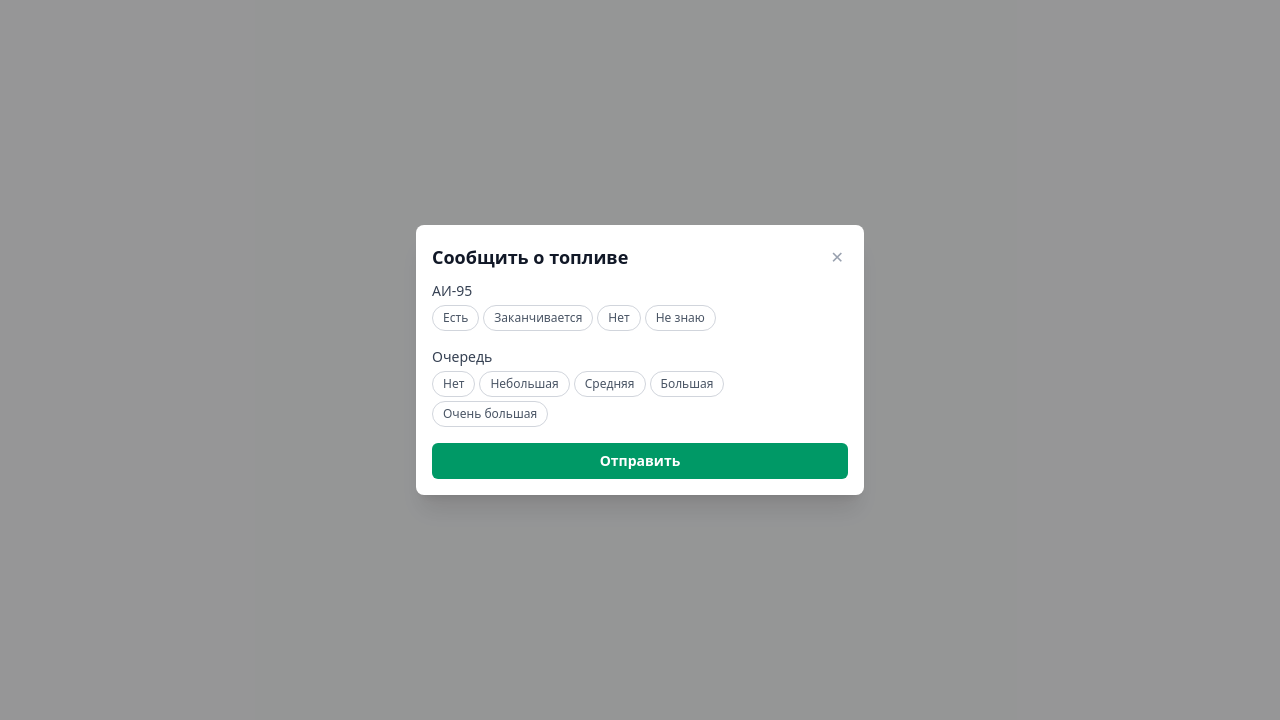
Test: ReportForm (R39) › отправляет отчёт с идемпотентным ключом и показывает успех
The image size is (1280, 720).
expect the text "АИ-95" is shown: met, box [432, 281, 472, 300]
Click the button "Есть".
click(456, 318)  # box [432, 305, 479, 331]
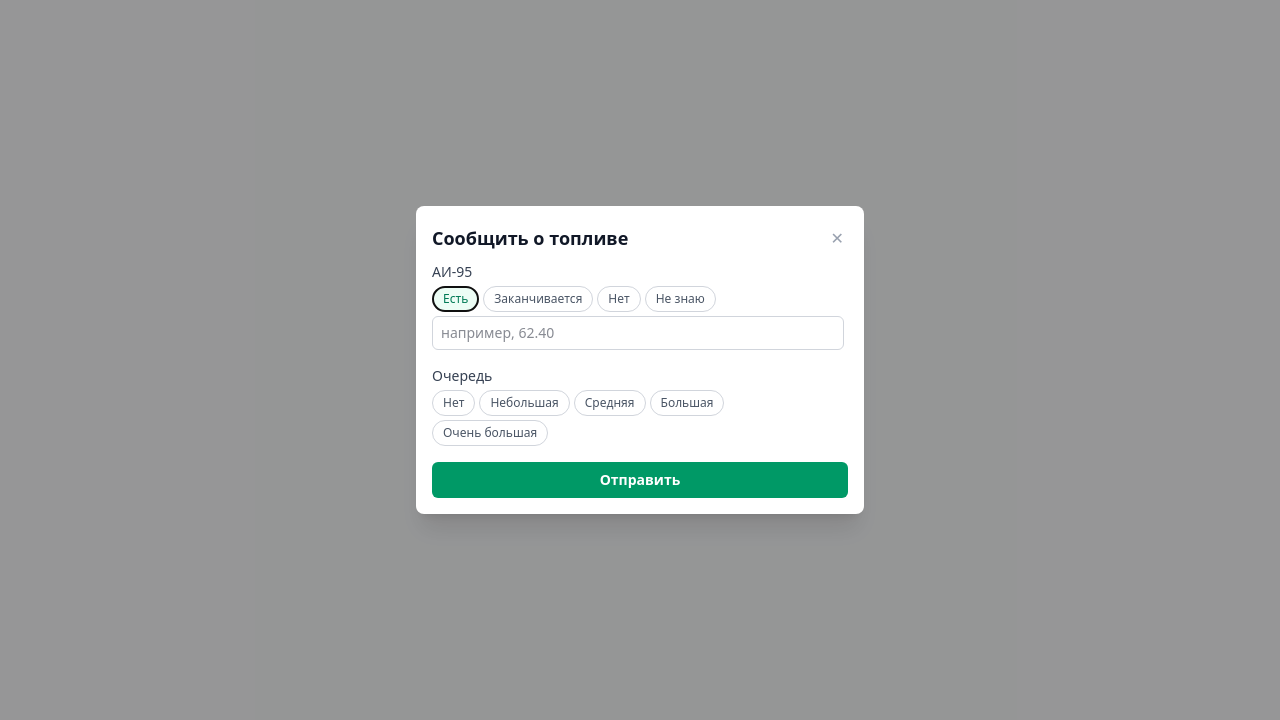
Click the button "Отправить".
click(640, 480)  # box [432, 462, 848, 498]
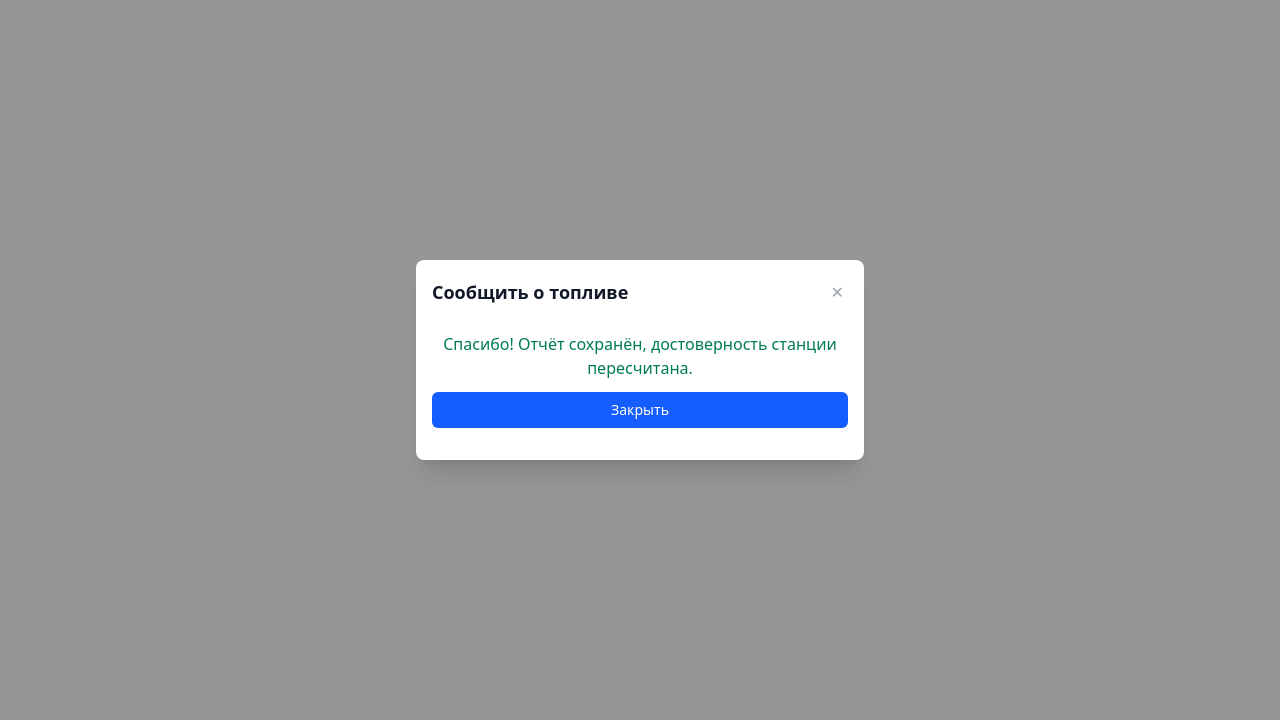
expect the text "Спасибо! Отчёт сохранён, достоверность станции пересчитана." is shown: met, box [432, 332, 848, 380]
